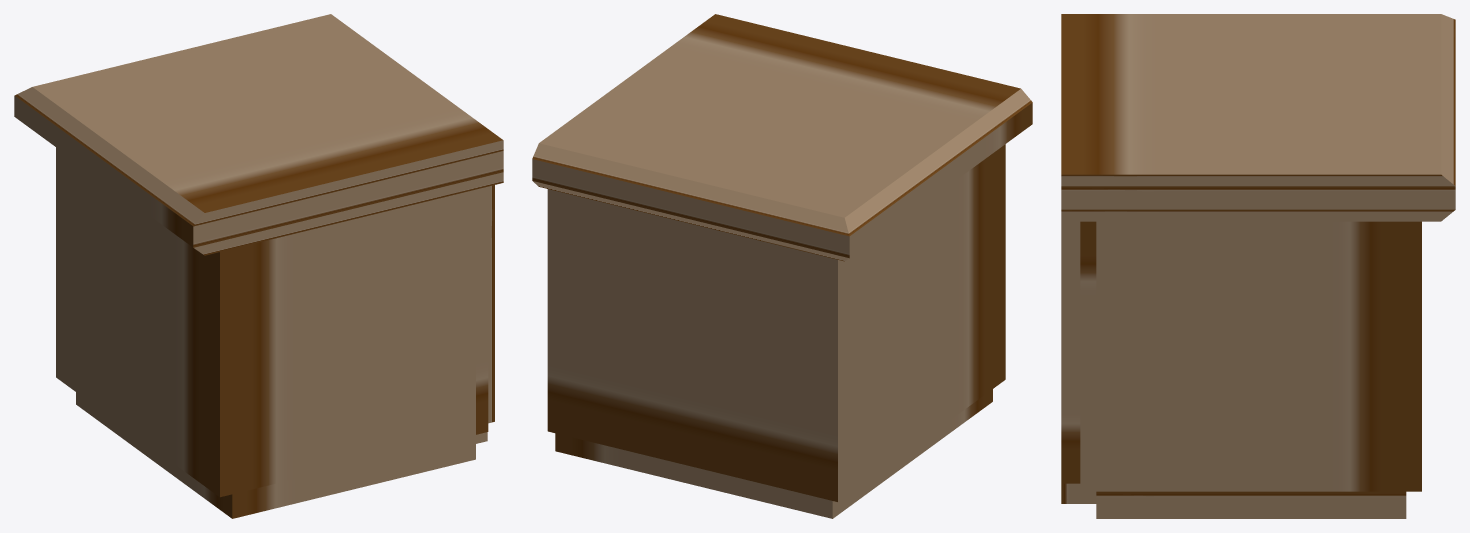
Rendered from SM_Bench_Corner.fbx.
3 views of the same model, side by side, from view 1: azimuth 30°, elevation 25°; view 2: azimuth 150°, elevation 25°; view 3: azimuth 270°, elevation 25° (orthographic). The views are drawn at different scales.
Visible parts, largest first — view 1: SM_Bench_Corner_Inner; view 2: SM_Bench_Corner_Inner; view 3: SM_Bench_Corner_Inner.
Part boxes in pixels (x1,y1,x2,y2): SM_Bench_Corner_Inner: (14, 14, 503, 518); SM_Bench_Corner_Inner: (532, 14, 1032, 518); SM_Bench_Corner_Inner: (1061, 14, 1455, 518).
Bounding box in the file's own units: 1.04 × 1 × 1.04.
